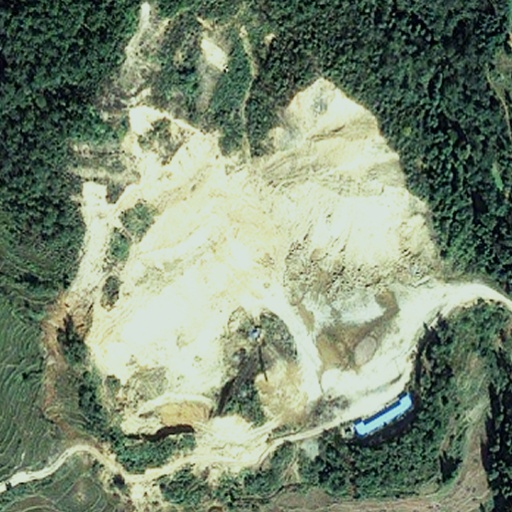landslide: (57, 77, 437, 456)
